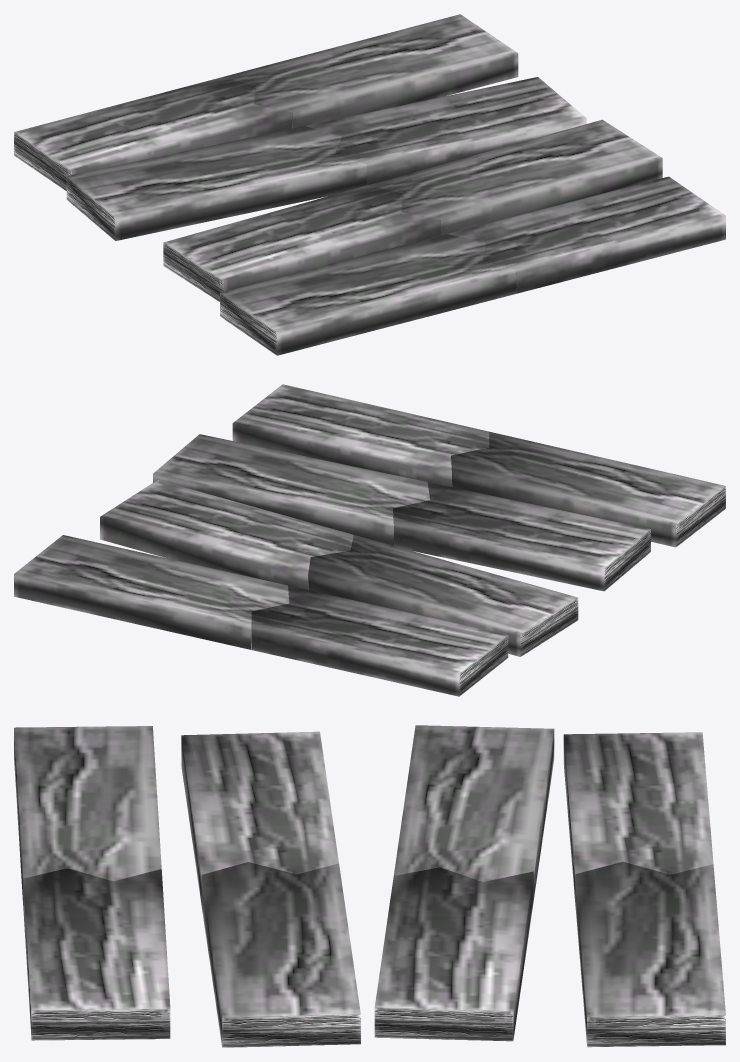
The model's file is INST_SWORDLIGHT_WALLPLAT-BREAKBOARD.obj.
3 views of the same model, one above another, from view 1: azimuth 30°, elevation 25°; view 2: azimuth 150°, elevation 25°; view 3: azimuth 270°, elevation 25° (orthographic). The views are drawn at different scales.
Parts seen in each view (by area): view 1: BoardAR_Lod1_03, BoardAR_Lod1_01, BoardAR_Lod1_04, BoardAR_Lod1_02, BoardAL_Lod1_01, BoardAL_Lod1_02, BoardAL_Lod1_03, BoardAL_Lod1_04; view 2: BoardAR_Lod1_04, BoardAL_Lod1_03, BoardAL_Lod1_02, BoardAR_Lod1_01, BoardAR_Lod1_03, BoardAL_Lod1_04, BoardAR_Lod1_02, BoardAL_Lod1_01; view 3: BoardAR_Lod1_02, BoardAR_Lod1_04, BoardAL_Lod1_04, BoardAL_Lod1_01, BoardAR_Lod1_03, BoardAR_Lod1_01, BoardAL_Lod1_02, BoardAL_Lod1_03.
Part boxes in pixels (<box>): BoardAR_Lod1_03: <box>66,126,366,240</box>; BoardAR_Lod1_01: <box>220,234,516,355</box>; BoardAR_Lod1_04: <box>222,14,518,128</box>; BoardAR_Lod1_02: <box>368,119,662,235</box>; BoardAL_Lod1_01: <box>447,176,725,293</box>; BoardAL_Lod1_02: <box>163,185,440,301</box>; BoardAL_Lod1_03: <box>14,77,292,190</box>; BoardAL_Lod1_04: <box>305,77,586,185</box>; BoardAR_Lod1_04: <box>14,535,289,649</box>; BoardAL_Lod1_03: <box>251,585,508,696</box>; BoardAL_Lod1_02: <box>393,482,650,591</box>; BoardAR_Lod1_01: <box>451,431,725,547</box>; BoardAR_Lod1_03: <box>308,535,578,656</box>; BoardAL_Lod1_04: <box>100,480,353,589</box>; BoardAR_Lod1_02: <box>153,434,429,545</box>; BoardAL_Lod1_01: <box>232,384,489,486</box>; BoardAR_Lod1_02: <box>201,862,360,1047</box>; BoardAR_Lod1_04: <box>575,861,725,1047</box>; BoardAL_Lod1_04: <box>374,867,533,1041</box>; BoardAL_Lod1_01: <box>23,868,170,1040</box>; BoardAR_Lod1_03: <box>393,725,554,899</box>; BoardAR_Lod1_01: <box>14,726,161,905</box>; BoardAL_Lod1_02: <box>181,731,338,904</box>; BoardAL_Lod1_03: <box>563,732,713,901</box>.
Bounding box in the file's own units: 189 × 9.06 × 194.
